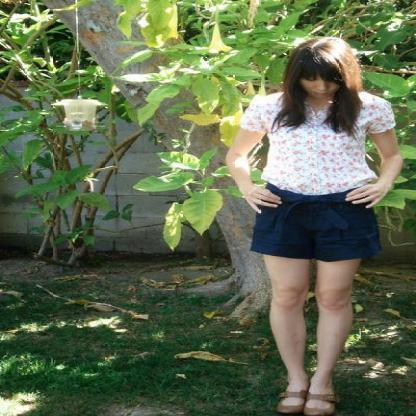shirt: (237, 91, 395, 195)
shoe: (278, 391, 348, 415)
shorts: (250, 182, 380, 262)
